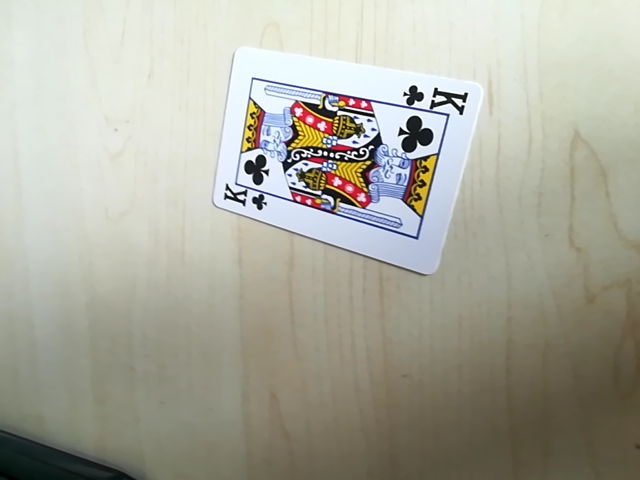mh k: (403, 83, 472, 114), (218, 183, 265, 215)
